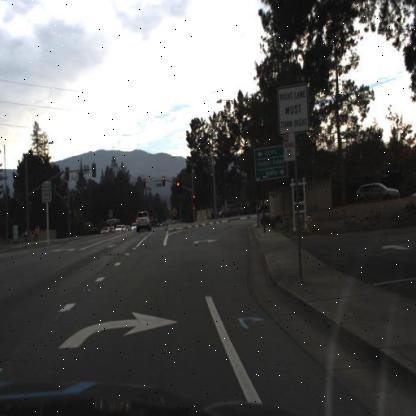car: (355, 179, 400, 204), (134, 207, 153, 235), (219, 202, 244, 218)
trafficLight-Red: (161, 173, 166, 189), (176, 179, 180, 195), (191, 193, 196, 204)
trafficLight-RedLeft: (141, 175, 147, 191)
